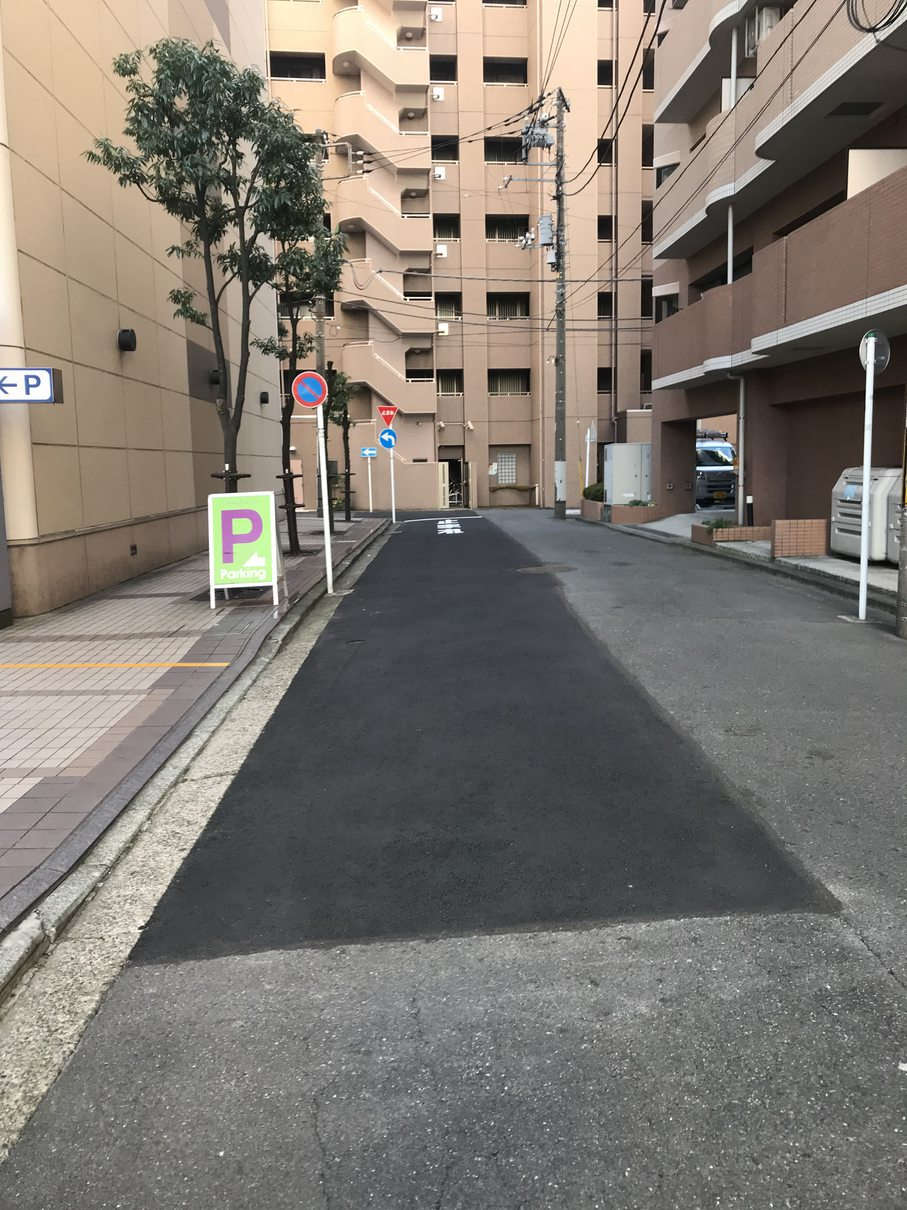stop_sign: (377, 404, 399, 426)
